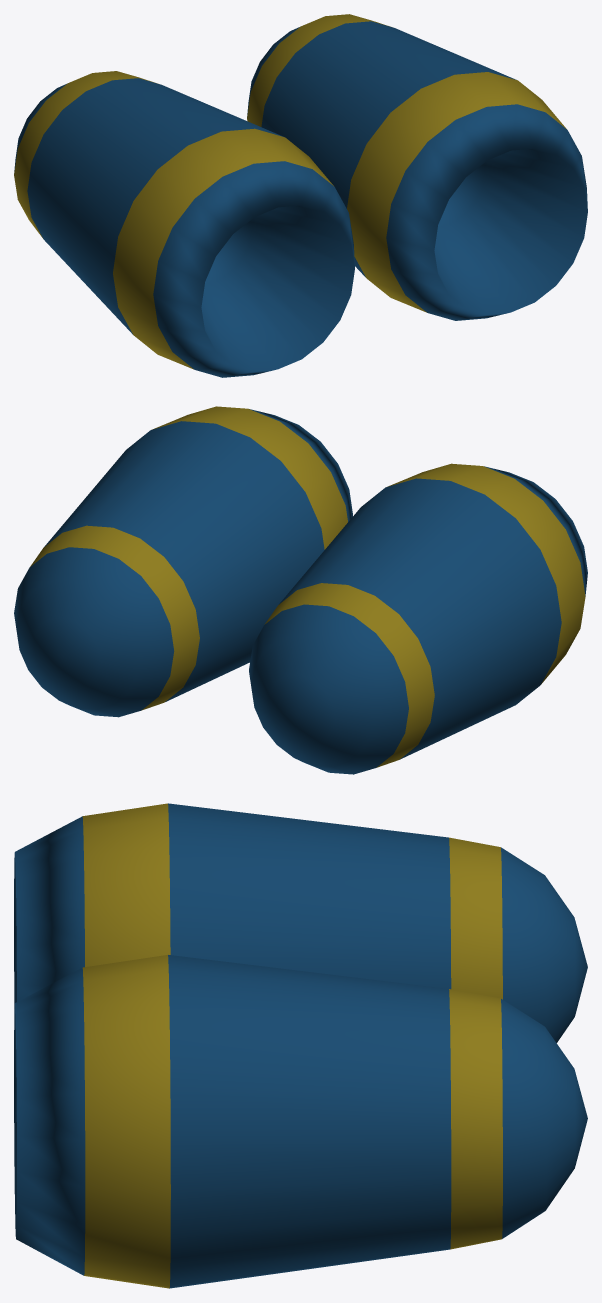
File: ALLIANCEENGINE1.fbx
3 renders of one model, top to bottom at view 1: azimuth 30°, elevation 25°; view 2: azimuth 150°, elevation 25°; view 3: azimuth 270°, elevation 25°, orthographic. The views are drawn at different scales.
Parts seen in each view (by area): view 1: pCylinder18; view 2: pCylinder18; view 3: pCylinder18.
Part boxes in pixels (x1=…): pCylinder18: x1=14, y1=14, x2=587, y2=377; pCylinder18: x1=14, y1=406, x2=587, y2=774; pCylinder18: x1=14, y1=803, x2=587, y2=1288.
Size of the model in its own units: 10.63 by 5.15 by 8.79.
